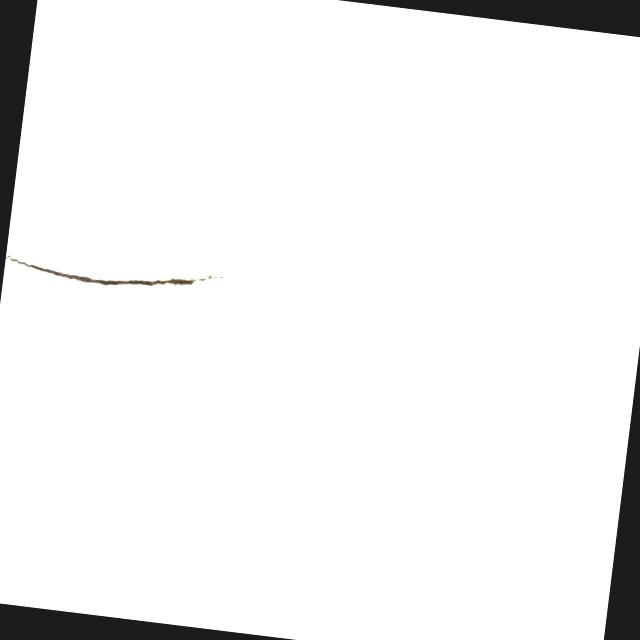crack: (3, 242, 234, 304)
